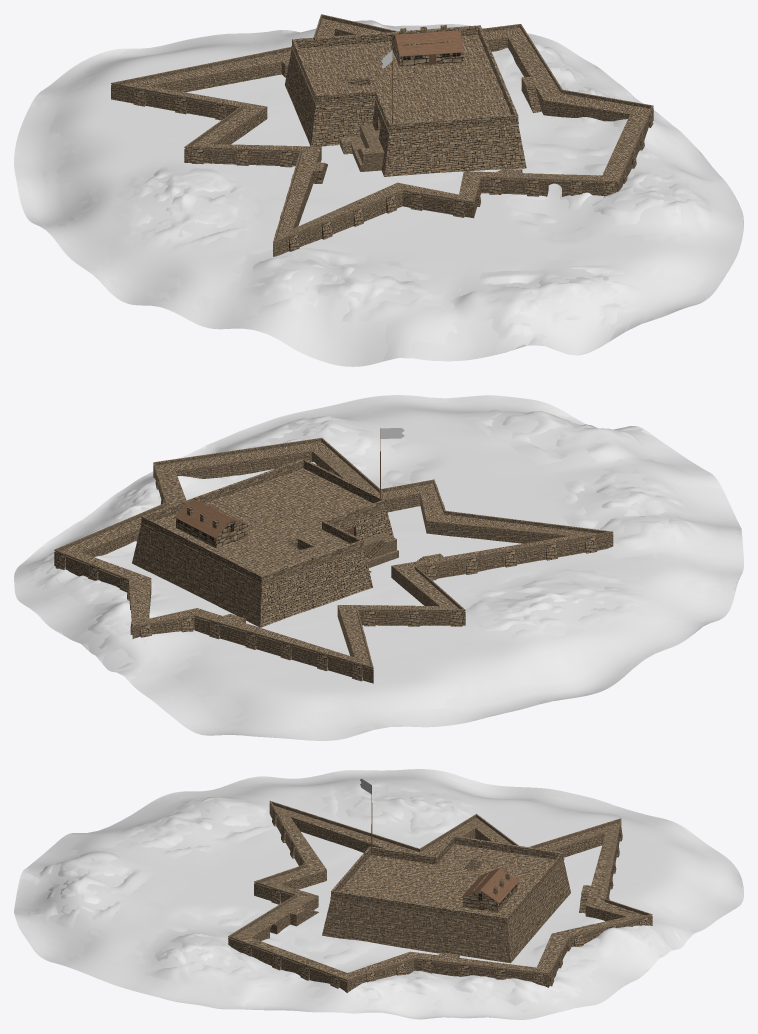
Rendered from Ship.Fortress.01.fbx.
The picture shows the model from 3 angles, top to bottom: view 1: azimuth 30°, elevation 25°; view 2: azimuth 150°, elevation 25°; view 3: azimuth 270°, elevation 25°; orthographic projection. The views are drawn at different scales.
Visible parts, largest first — view 1: GroundCol, Ground, Citadel, Island, House, StairwayBlock; view 2: Ground, GroundCol, Island, Citadel, House, StairwayBlock; view 3: GroundCol, Ground, Citadel, Island, House.
Boxes of the visible parts, bbox=[...] form: GroundCol: bbox=[14, 20, 743, 366]; Ground: bbox=[14, 20, 743, 366]; Citadel: bbox=[285, 25, 526, 176]; Island: bbox=[111, 14, 653, 256]; House: bbox=[391, 25, 464, 66]; StairwayBlock: bbox=[348, 123, 384, 171]; Ground: bbox=[14, 395, 743, 740]; GroundCol: bbox=[14, 395, 743, 740]; Island: bbox=[54, 438, 613, 683]; Citadel: bbox=[132, 428, 404, 627]; House: bbox=[174, 499, 249, 548]; StairwayBlock: bbox=[363, 532, 398, 567]; GroundCol: bbox=[14, 769, 743, 1019]; Ground: bbox=[14, 769, 743, 1019]; Citadel: bbox=[322, 778, 570, 963]; Island: bbox=[228, 801, 652, 992]; House: bbox=[461, 867, 519, 912].
Size of the model in its own units: 11389 by 2798 by 14108.
